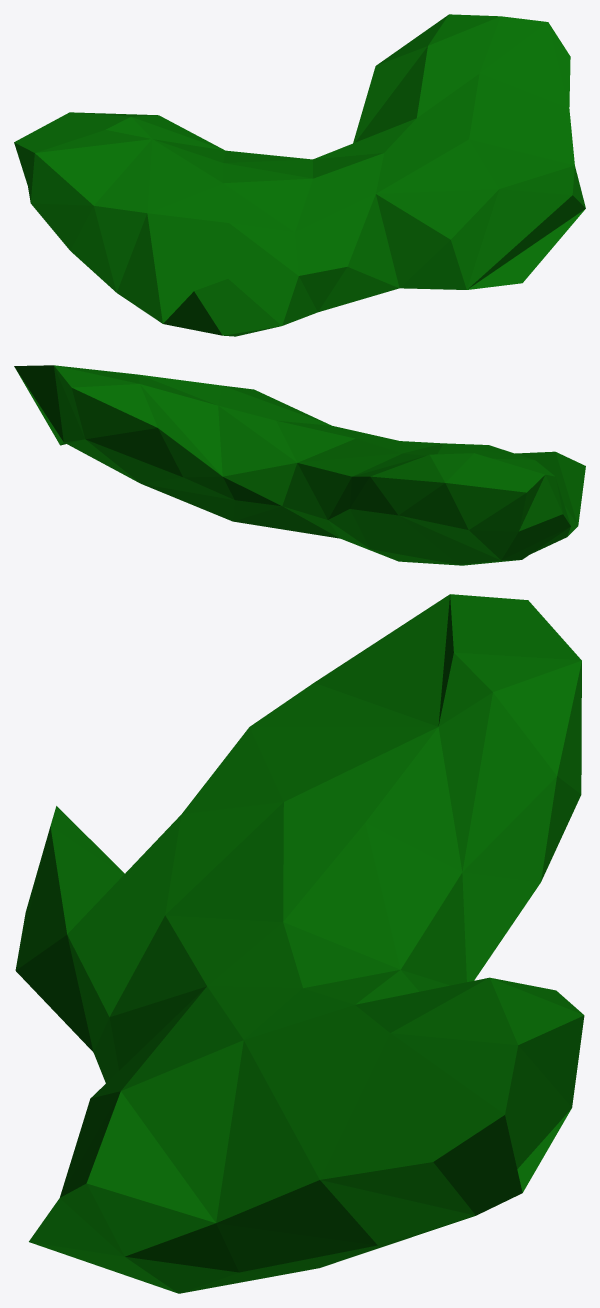
The model's file is 139-Pf-parafascicular thalamic nucleus-('0.0157', '0.4980', '0.0000').obj.
3 renders of one model, top to bottom at view 1: azimuth 30°, elevation 25°; view 2: azimuth 150°, elevation 25°; view 3: azimuth 270°, elevation 25°, orthographic. The views are drawn at different scales.
Bounding box in the file's own units: 34.87 × 10.56 × 16.13.
